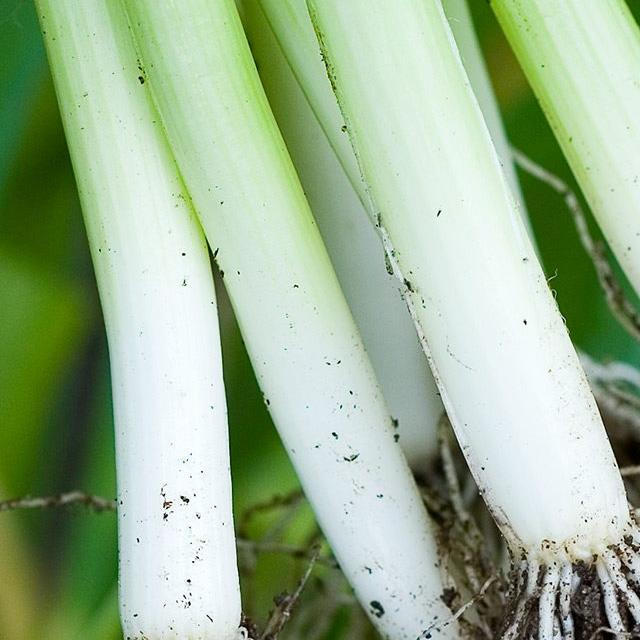green_onion: (32, 0, 640, 640)
